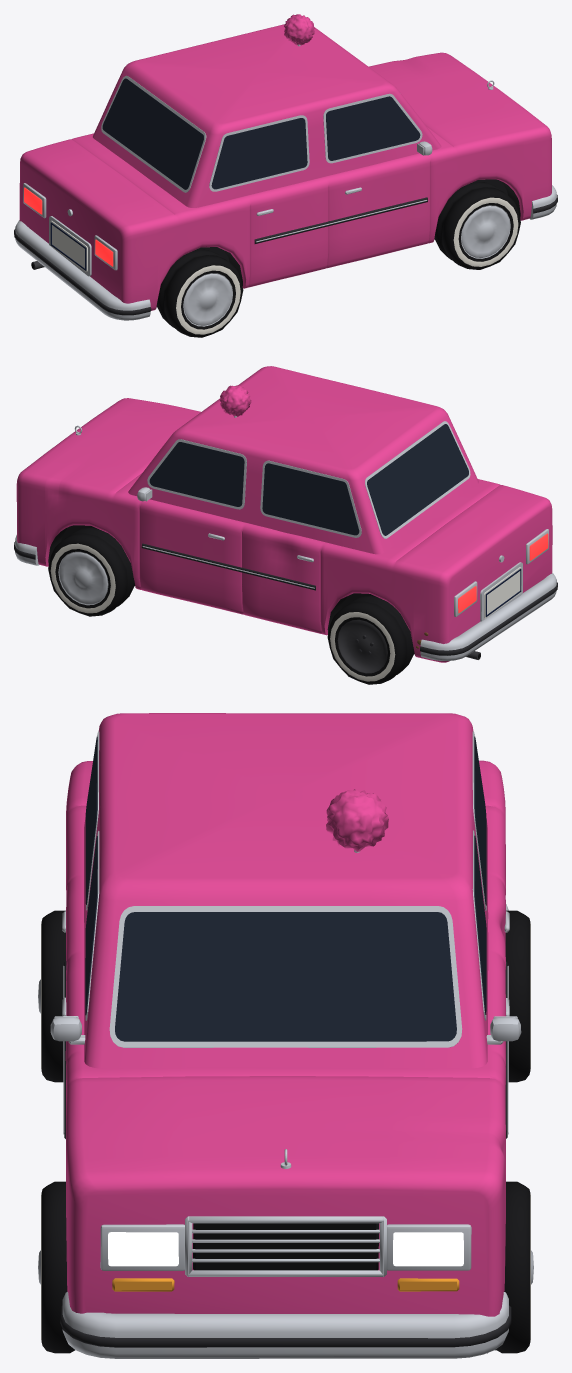
File: sedan.glb
3 renders of one model, top to bottom at view 1: azimuth 30°, elevation 25°; view 2: azimuth 150°, elevation 25°; view 3: azimuth 270°, elevation 25°, orthographic. The views are drawn at different scales.
Visible parts, largest first — view 1: Body, WheelRR_Tire, WheelFR_Tire, Pom, Taillights; view 2: Body, WheelFL_Tire, WheelRL_Tire, Pom, Taillights; view 3: Body, Headlights, WheelFL_Tire, WheelFR_Tire, WheelRR_Tire, WheelRL_Tire, Pom.
Boxes of the visible parts, <box> form: Body: <box>14,24,557,320</box>; WheelRR_Tire: <box>157,249,243,337</box>; WheelFR_Tire: <box>434,182,520,269</box>; Pom: <box>284,14,314,45</box>; Taillights: <box>24,187,113,266</box>; Body: <box>14,366,557,662</box>; WheelFL_Tire: <box>48,528,134,616</box>; WheelRL_Tire: <box>327,596,414,684</box>; Pom: <box>219,385,251,416</box>; Taillights: <box>458,533,548,613</box>; Body: <box>50,713,521,1358</box>; Headlights: <box>108,1232,463,1266</box>; WheelFL_Tire: <box>487,1181,533,1353</box>; WheelFR_Tire: <box>38,1181,74,1353</box>; WheelRR_Tire: <box>38,910,65,1082</box>; WheelRL_Tire: <box>505,910,530,1082</box>; Pom: <box>326,789,388,851</box>.
Size of the model in its own units: 4.39 by 2.08 by 2.09.
